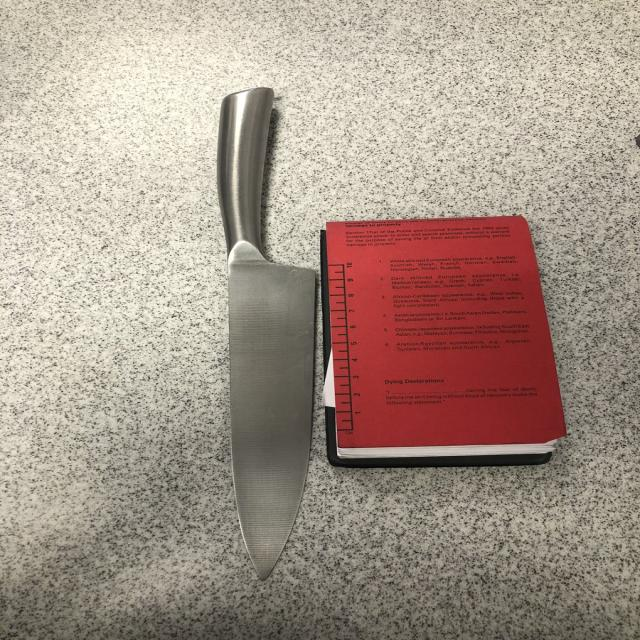Sharp-Object: (220, 86, 322, 579)
